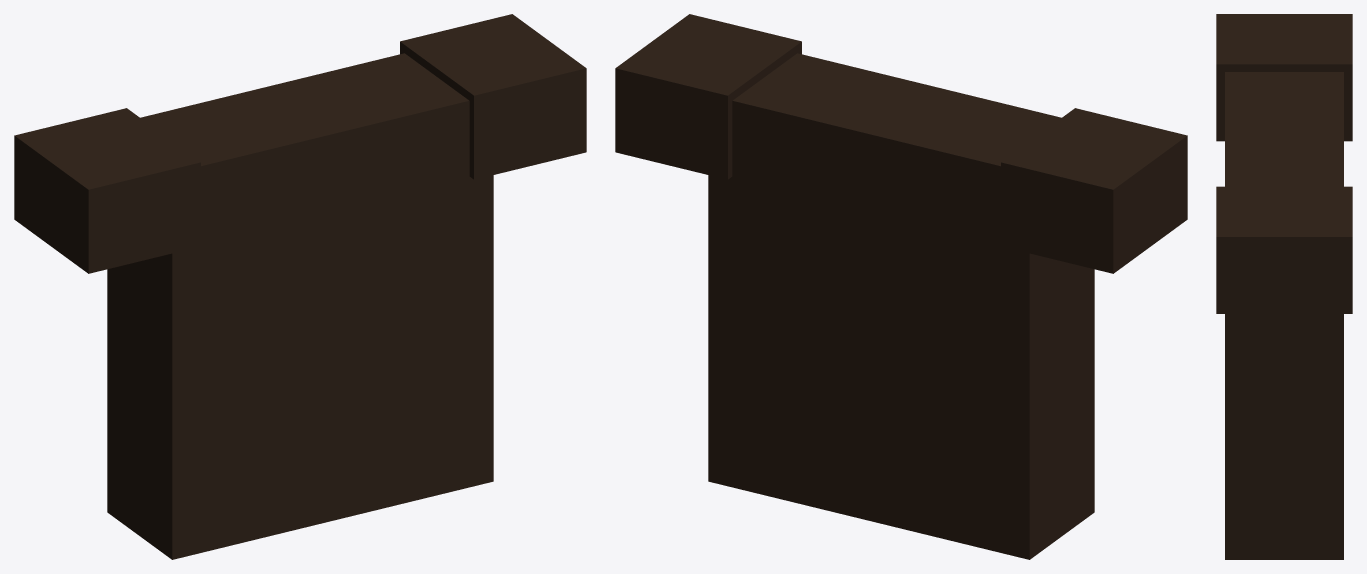
The model's file is leather_chestplate.glb.
The picture shows the model from 3 angles, left to right: view 1: azimuth 30°, elevation 25°; view 2: azimuth 150°, elevation 25°; view 3: azimuth 270°, elevation 25°; orthographic projection. The views are drawn at different scales.
Visible parts, largest first — view 1: plate, shoulder0, shoulder1; view 2: plate, shoulder0, shoulder1; view 3: plate, shoulder1, shoulder0.
Part boxes in pixels (bbox=[...]): plate: bbox=[107, 53, 493, 559]; shoulder0: bbox=[14, 108, 200, 273]; shoulder1: bbox=[400, 14, 586, 179]; plate: bbox=[708, 53, 1094, 559]; shoulder0: bbox=[1001, 108, 1187, 273]; shoulder1: bbox=[615, 14, 801, 179]; plate: bbox=[1225, 72, 1343, 559]; shoulder1: bbox=[1216, 186, 1352, 313]; shoulder0: bbox=[1216, 14, 1352, 141].
Size of the model in its own units: 0.62 by 0.47 by 0.16.
